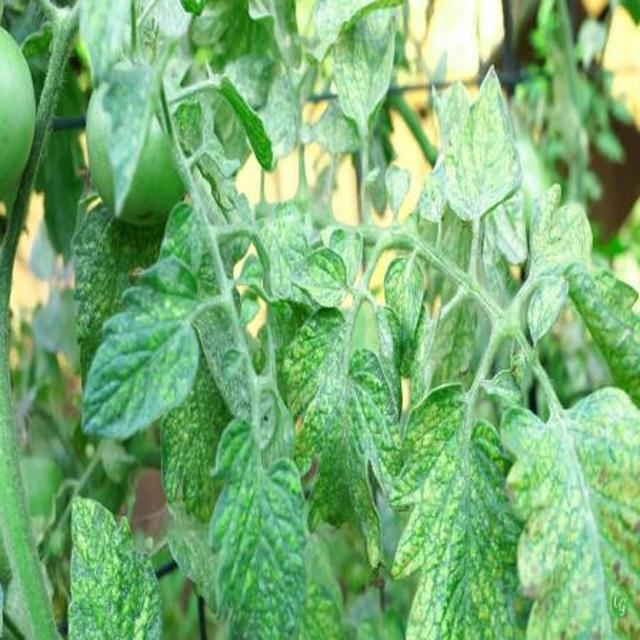Spider Mites Leaf: (62, 97, 640, 640)
